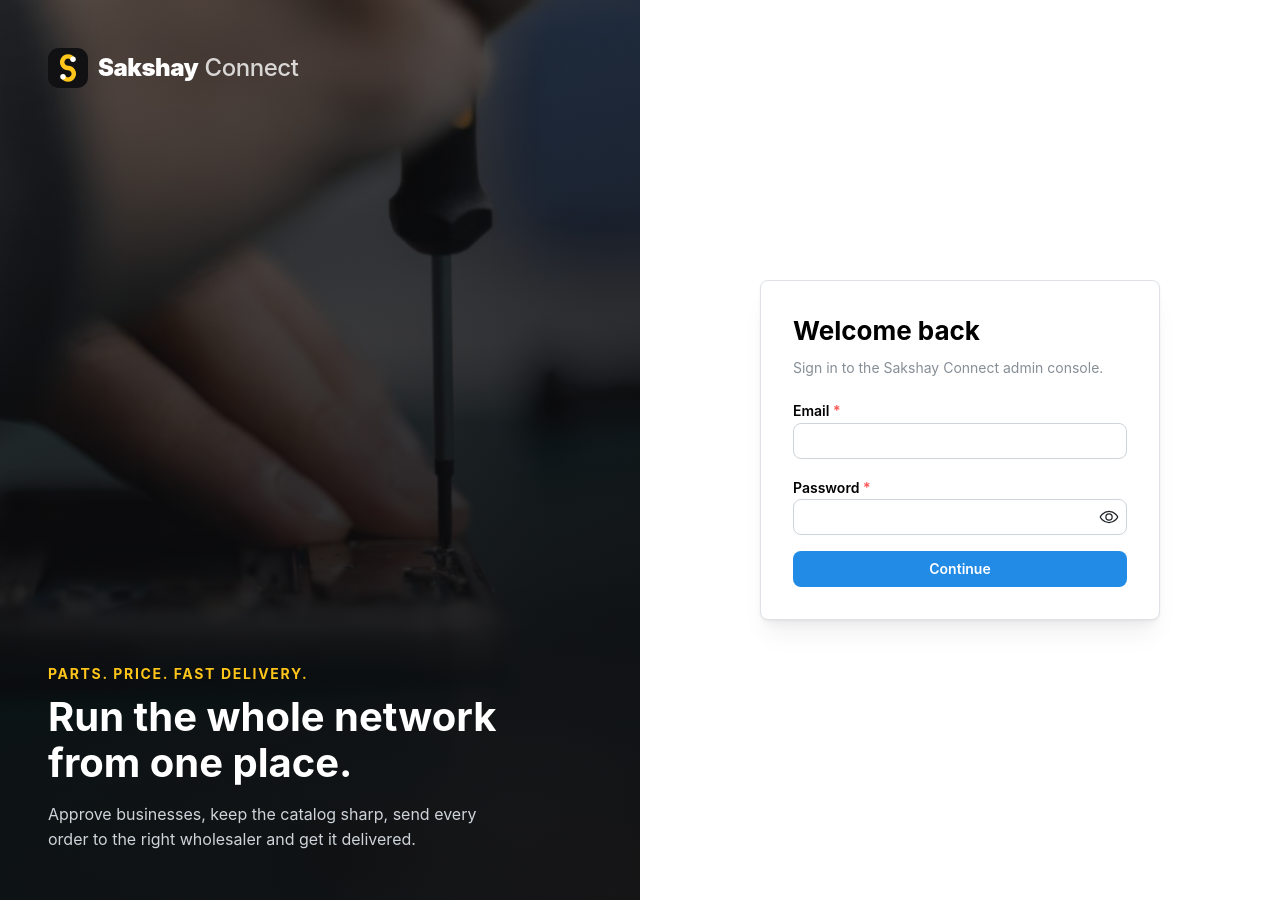
LoginPage › shows the server’s error message
Type "ops@example.in" into the field labelled "Email *".
click(960, 441); type("ops@example.in")  # box [793,423,1127,459]
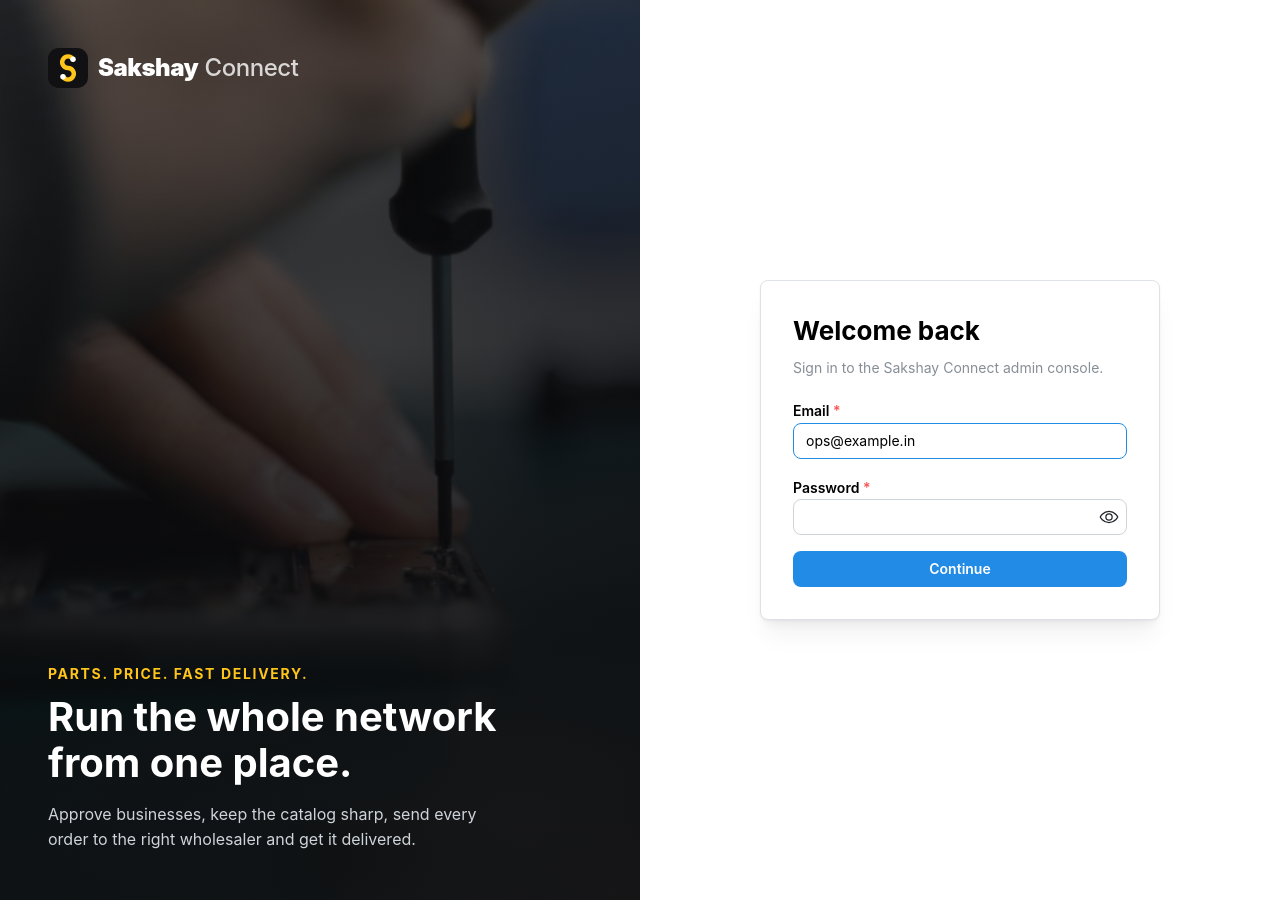
Type "wrong" into the password field labelled "Password *".
click(960, 518); type("wrong")  # box [794,500,1126,534]
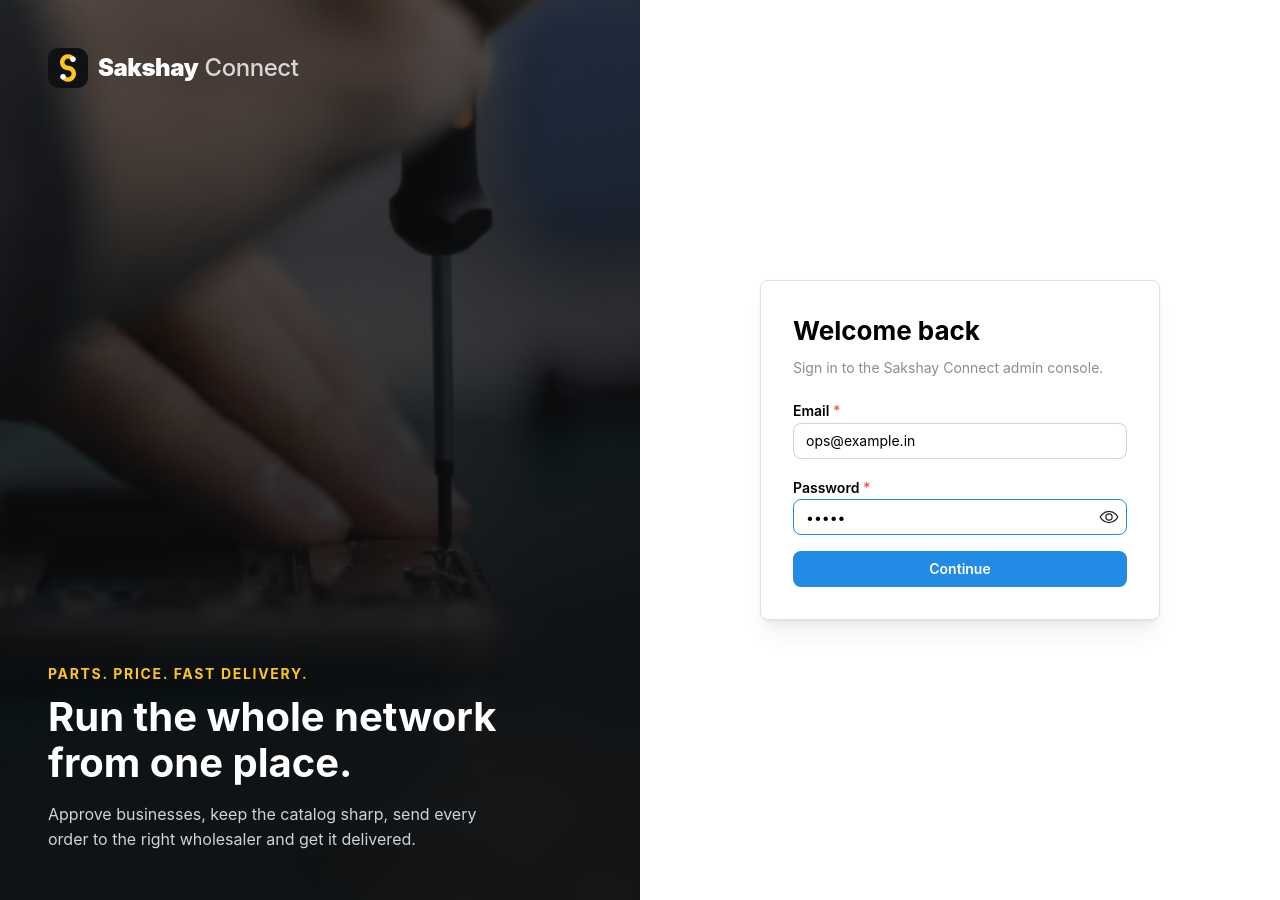
Click the button "Continue".
click(960, 570)  # box [793,552,1127,588]
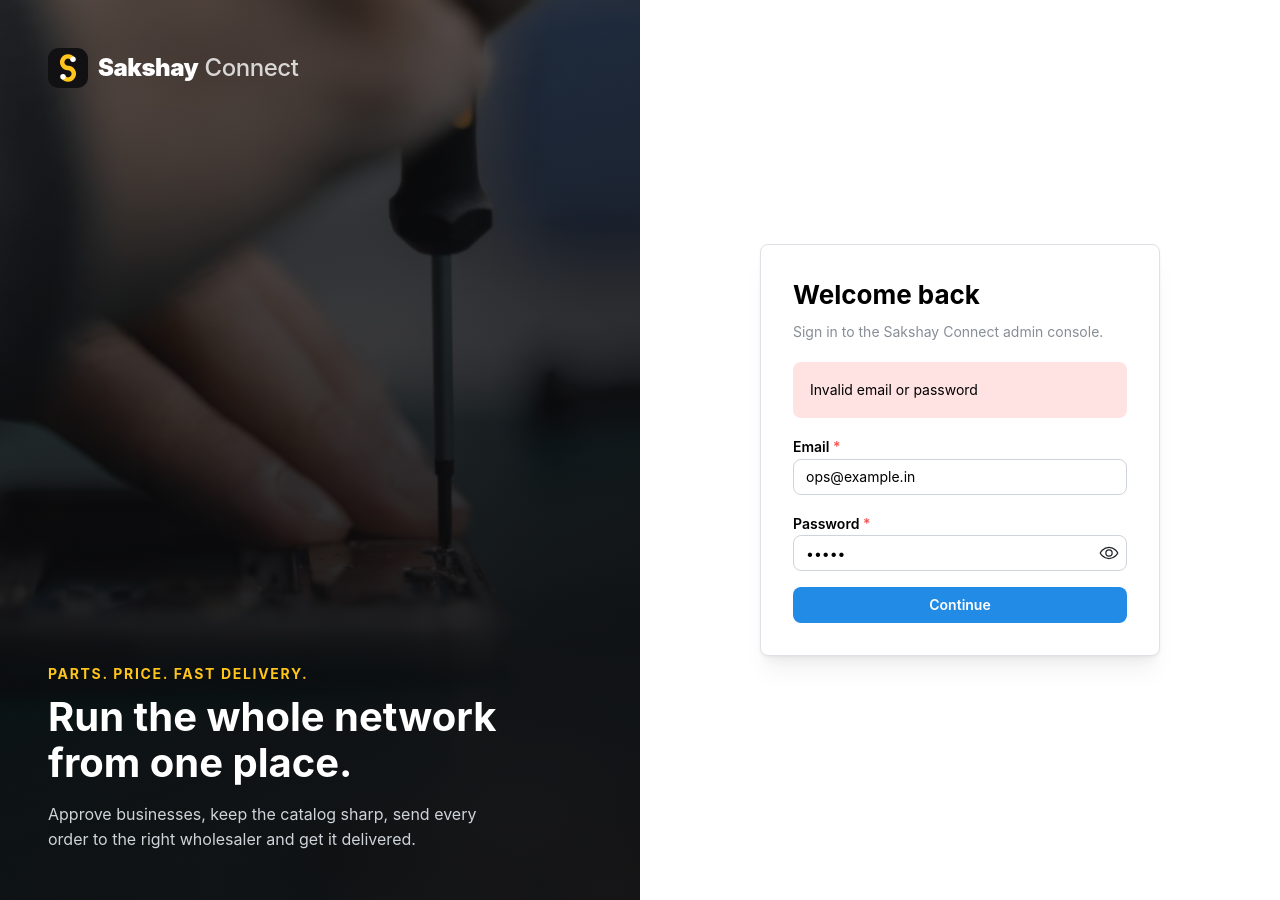
Result: the message reads "Invalid email or password" at [810,381,978,398]
